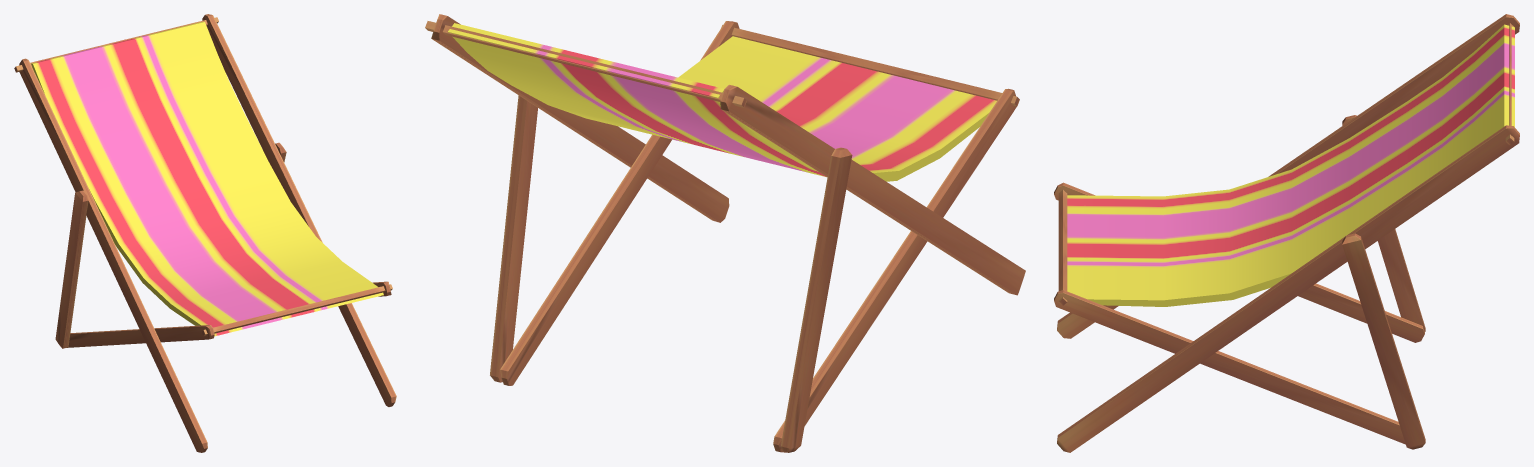
The model's file is lounge-chair-1e.fbx.
3 renders of one model, left to right at view 1: azimuth 30°, elevation 25°; view 2: azimuth 150°, elevation 25°; view 3: azimuth 270°, elevation 25°, orthographic. The views are drawn at different scales.
Parts seen in each view (by area): view 1: pCube13; view 2: pCube13; view 3: pCube13.
Boxes of the visible parts, x1=… form: pCube13: x1=14, y1=14, x2=396, y2=452; pCube13: x1=425, y1=14, x2=1025, y2=452; pCube13: x1=1054, y1=14, x2=1519, y2=452.
Bounding box in the file's own units: 95.3 × 117 × 152.
1 material, 1 textured.
